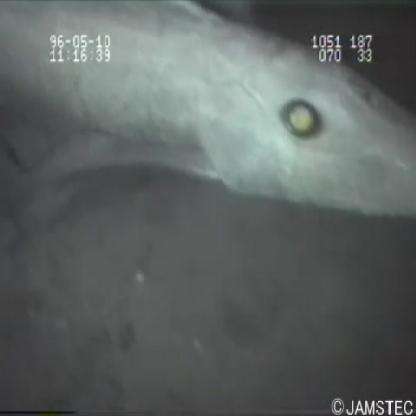Bio: (1, 1, 416, 227)
